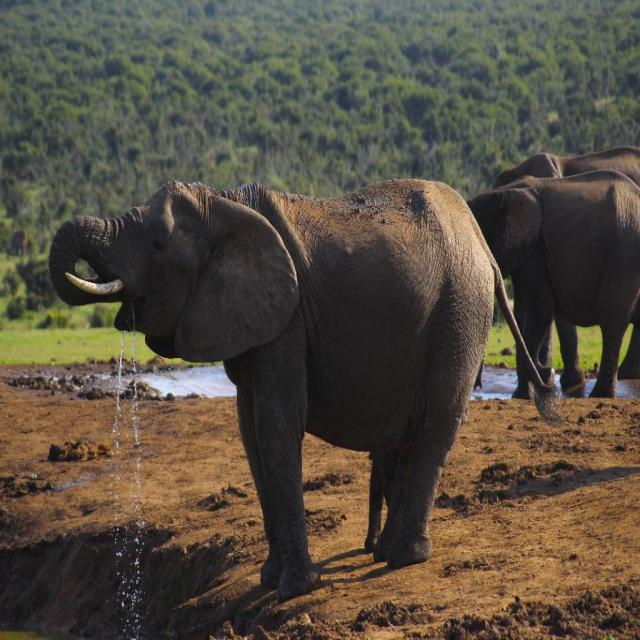elephant: (48, 170, 491, 595), (470, 171, 640, 413), (486, 140, 638, 376)
